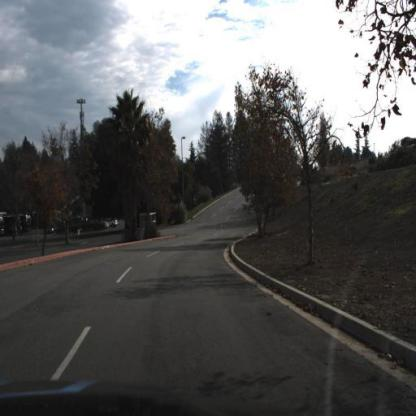car: (105, 216, 121, 229)
